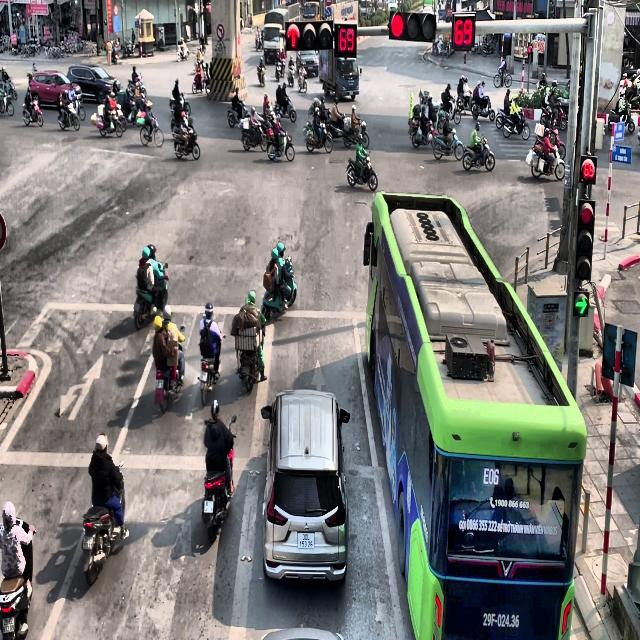BUS: (362, 191, 586, 639)
CAR: (260, 388, 350, 584), (66, 64, 120, 104), (29, 70, 82, 108)
MOTORBIKE: (81, 460, 128, 586), (201, 416, 237, 543), (0, 518, 36, 640), (154, 325, 185, 413), (261, 256, 297, 320), (134, 263, 168, 330), (197, 334, 226, 406), (235, 324, 265, 392), (530, 137, 566, 181), (346, 151, 378, 192), (462, 134, 495, 172), (432, 126, 465, 160), (172, 122, 200, 160), (303, 120, 333, 154), (239, 116, 267, 152), (267, 128, 295, 162), (96, 105, 124, 137), (502, 108, 530, 140), (342, 116, 370, 148), (540, 99, 567, 132), (140, 112, 164, 148), (608, 100, 634, 132), (435, 98, 461, 130), (57, 95, 80, 131), (410, 119, 434, 148), (22, 94, 43, 127), (471, 94, 495, 122), (273, 95, 296, 123), (226, 100, 248, 128), (169, 92, 191, 118), (494, 63, 512, 88), (0, 86, 14, 116), (297, 66, 307, 92), (256, 63, 266, 86), (176, 45, 189, 62), (275, 58, 285, 80), (287, 66, 294, 86)
TRAFFIC_LIGHT: (575, 197, 595, 281), (388, 10, 437, 41), (286, 20, 334, 50), (452, 12, 476, 50), (334, 23, 356, 58), (579, 155, 597, 184)
